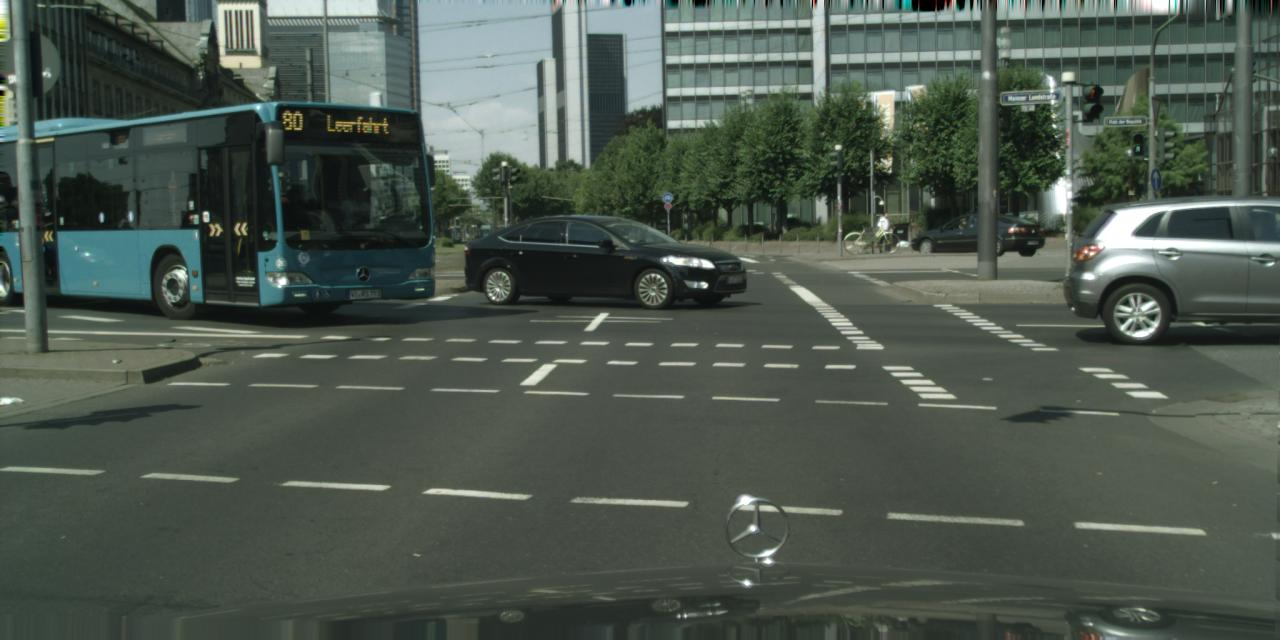ped: (876, 212, 892, 252)
